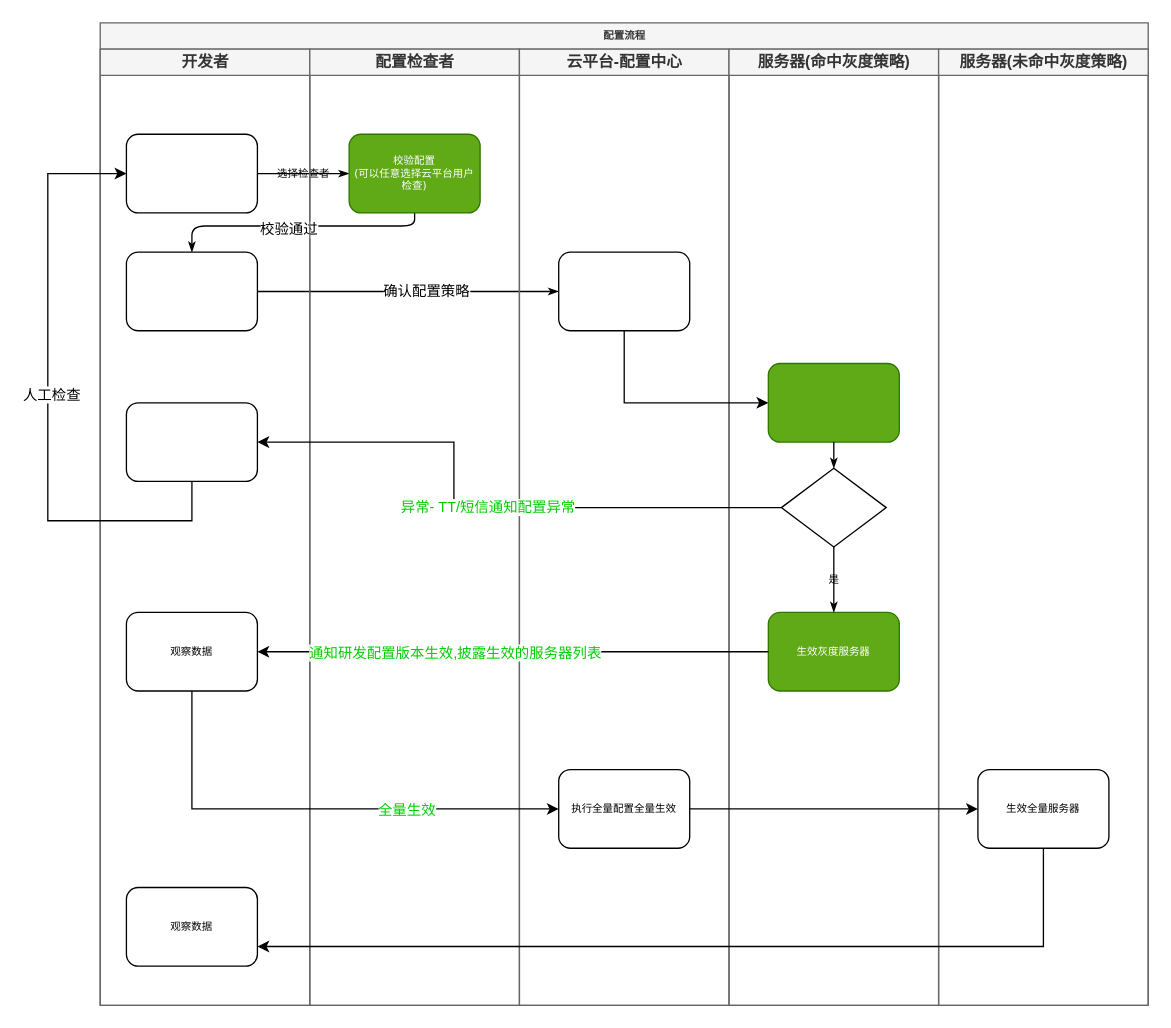
Image size: 1171x1028. Some labels were removed from this diagram. Here are the shapes that lost their labels. From the top down, the centre of each, then its label:
At point 191,173: "修改配置".
At point 191,291: "配置灰度策略".
At point 623,291: "检查配置 执行配置灰度策略".
At point 833,402: "生效单台服务器".
At point 191,441: "检查异常 回滚配置".
At point 833,507: "运行正确".
